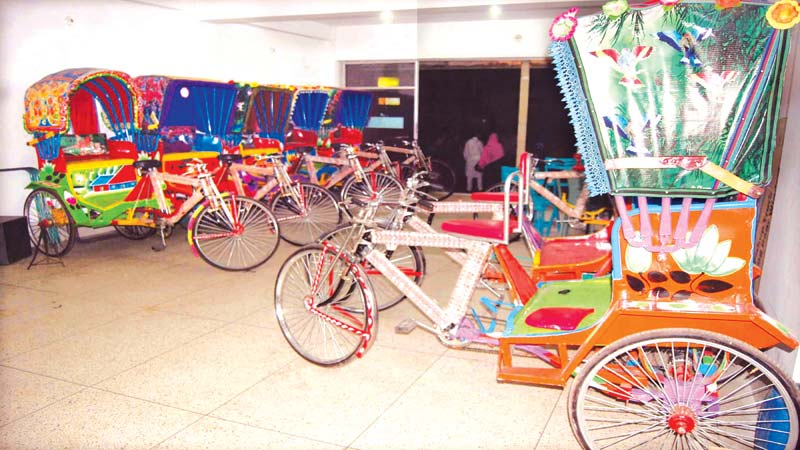Rickshaw: (288, 11, 798, 449), (28, 53, 278, 280), (147, 64, 345, 251)
